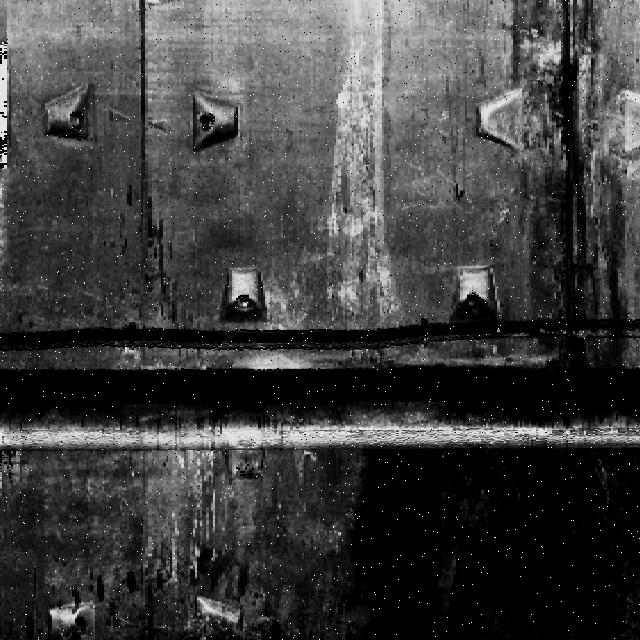leakage: (342, 439, 636, 639), (506, 0, 640, 366)
